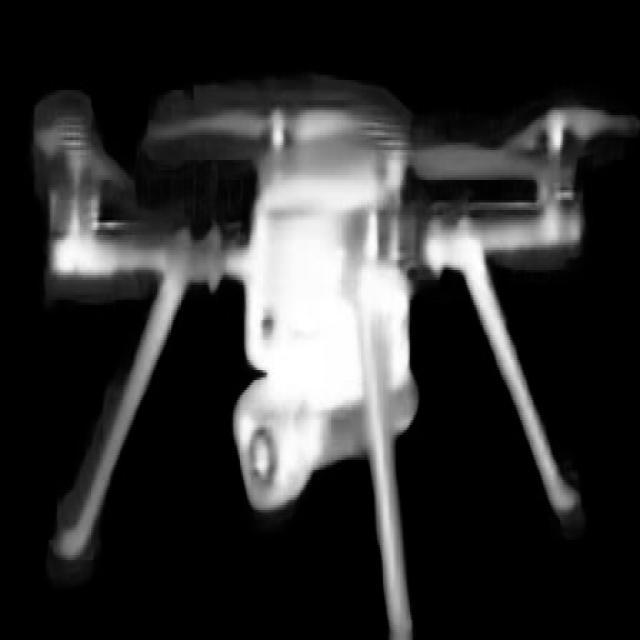drone: (18, 32, 640, 640)
